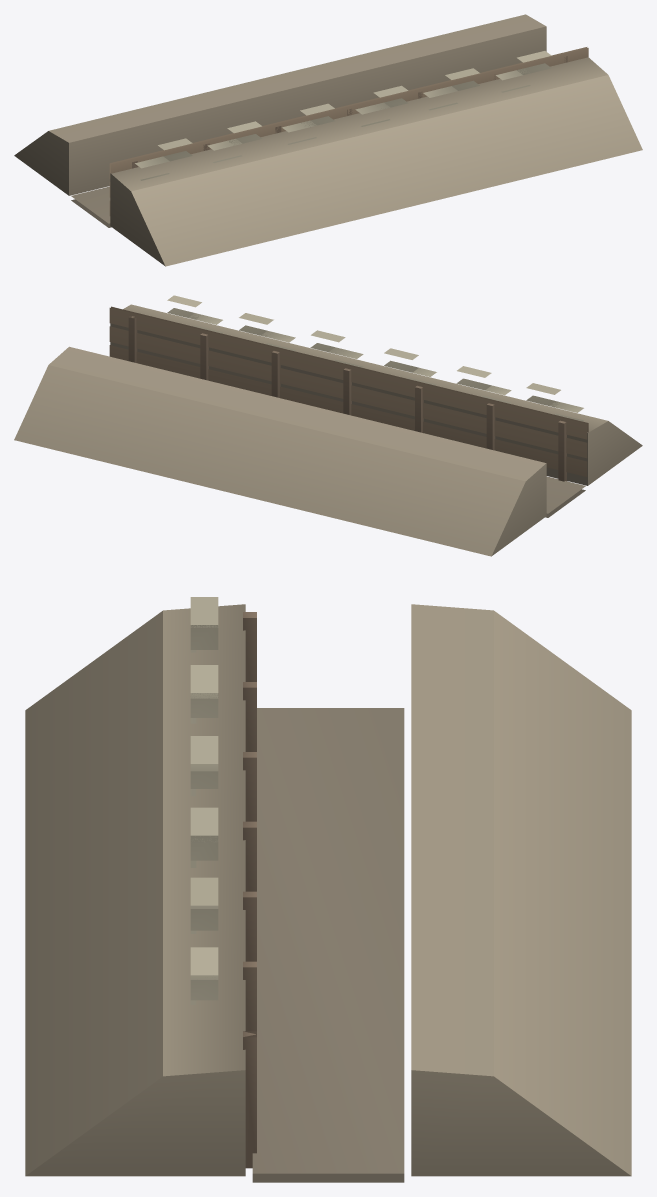
Rendered from mil_trench.lod.glb.
3 views of the same model, one above another, from view 1: azimuth 30°, elevation 25°; view 2: azimuth 150°, elevation 25°; view 3: azimuth 270°, elevation 25° (orthographic). The views are drawn at different scales.
Parts seen in each view (by area): view 1: mil_trench; view 2: mil_trench; view 3: mil_trench.
Part boxes in pixels (left/top/right/bottom): mil_trench: left=14, top=14, right=642, bottom=266; mil_trench: left=14, top=295, right=642, bottom=556; mil_trench: left=25, top=597, right=631, bottom=1182.
Size of the model in its own units: 8 by 1.32 by 4.4.
